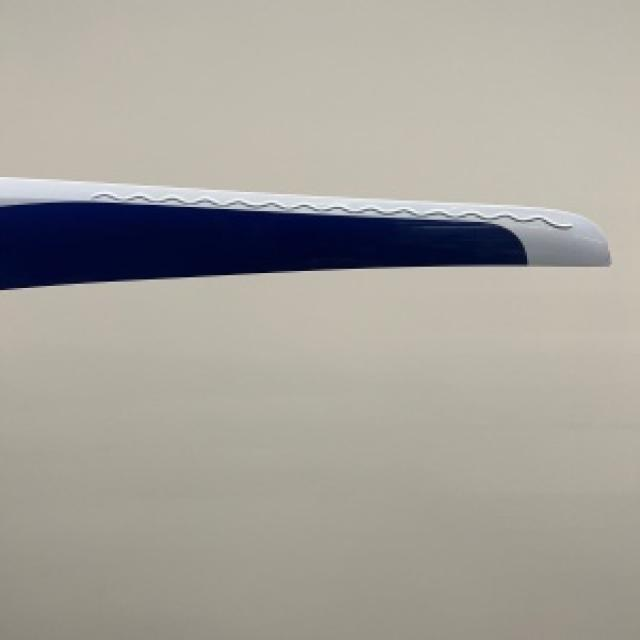healthy: (0, 177, 606, 286)
